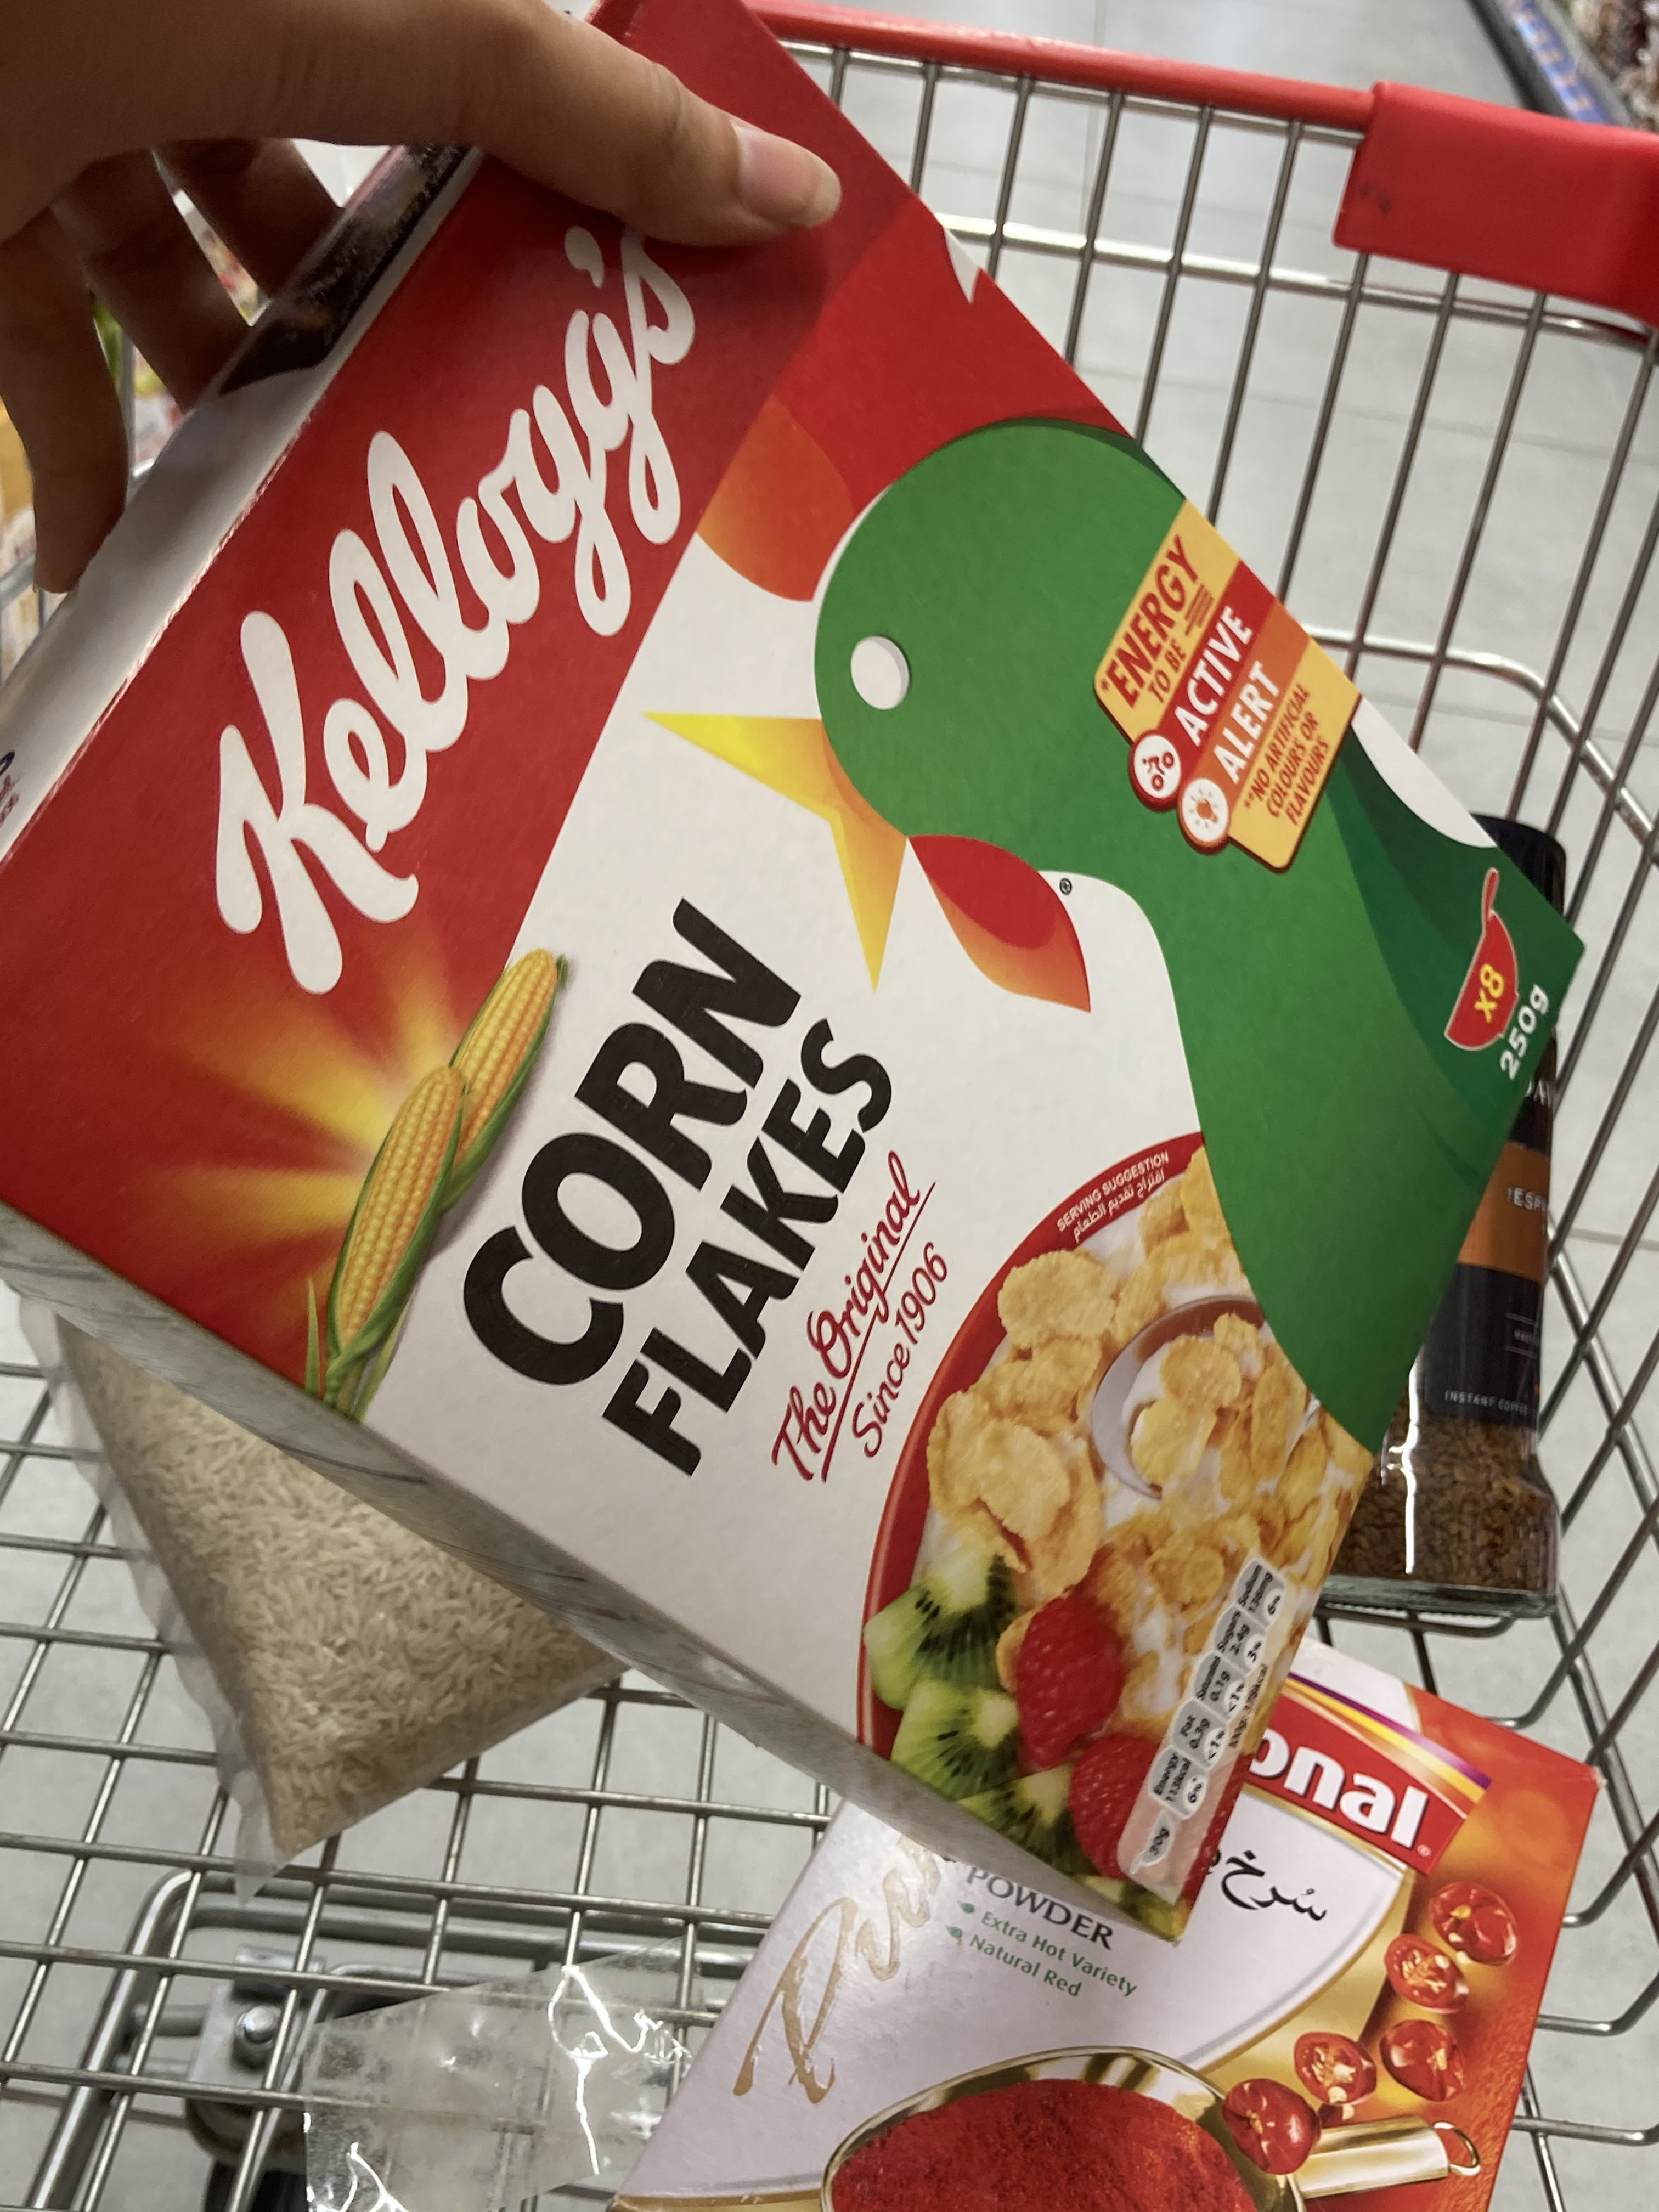Kellogg's Corn Flakes: (12, 5, 1589, 1946)
